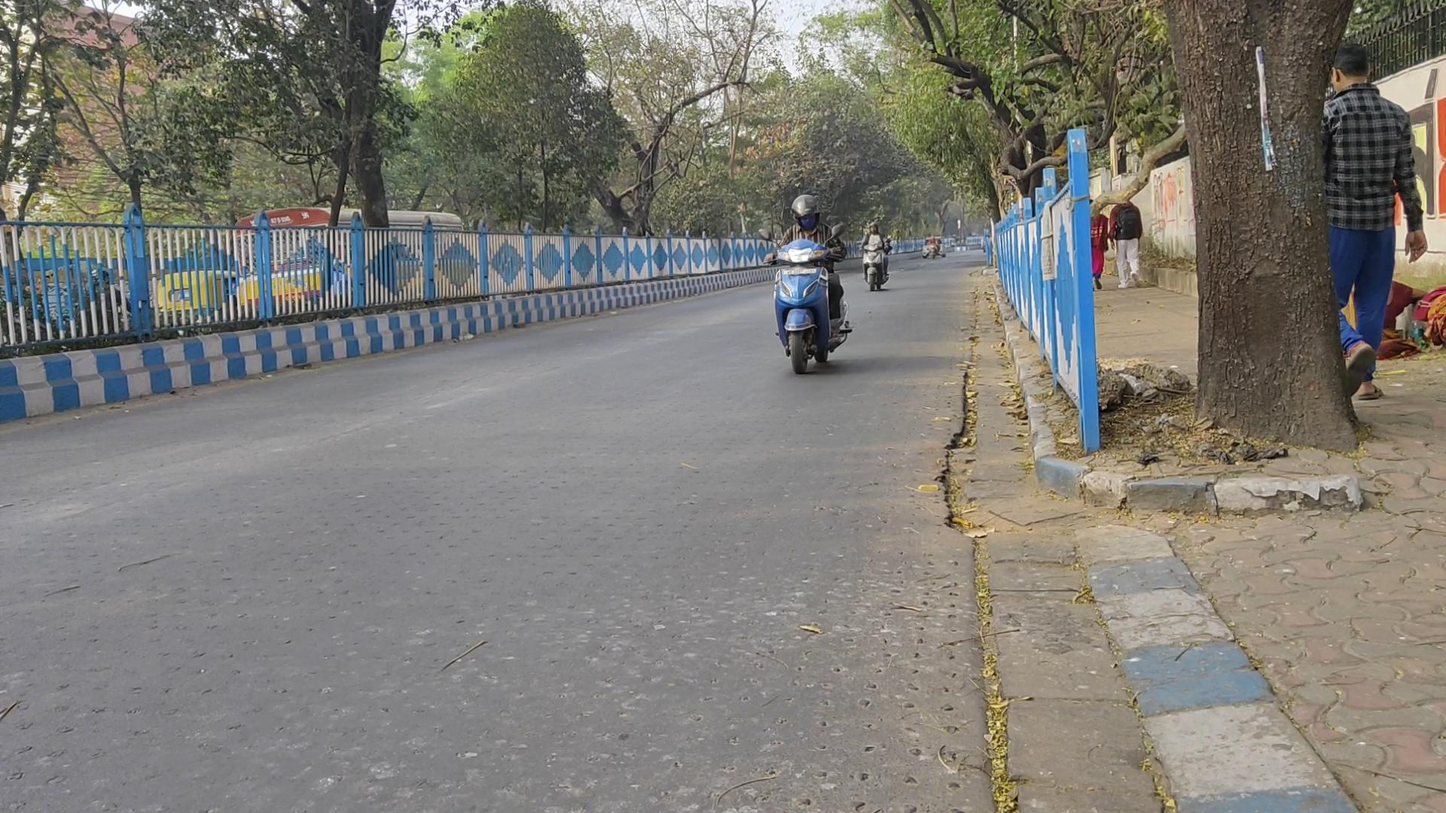bike: (758, 194, 853, 375), (856, 223, 892, 293), (928, 236, 941, 261)
car: (921, 236, 946, 258)
